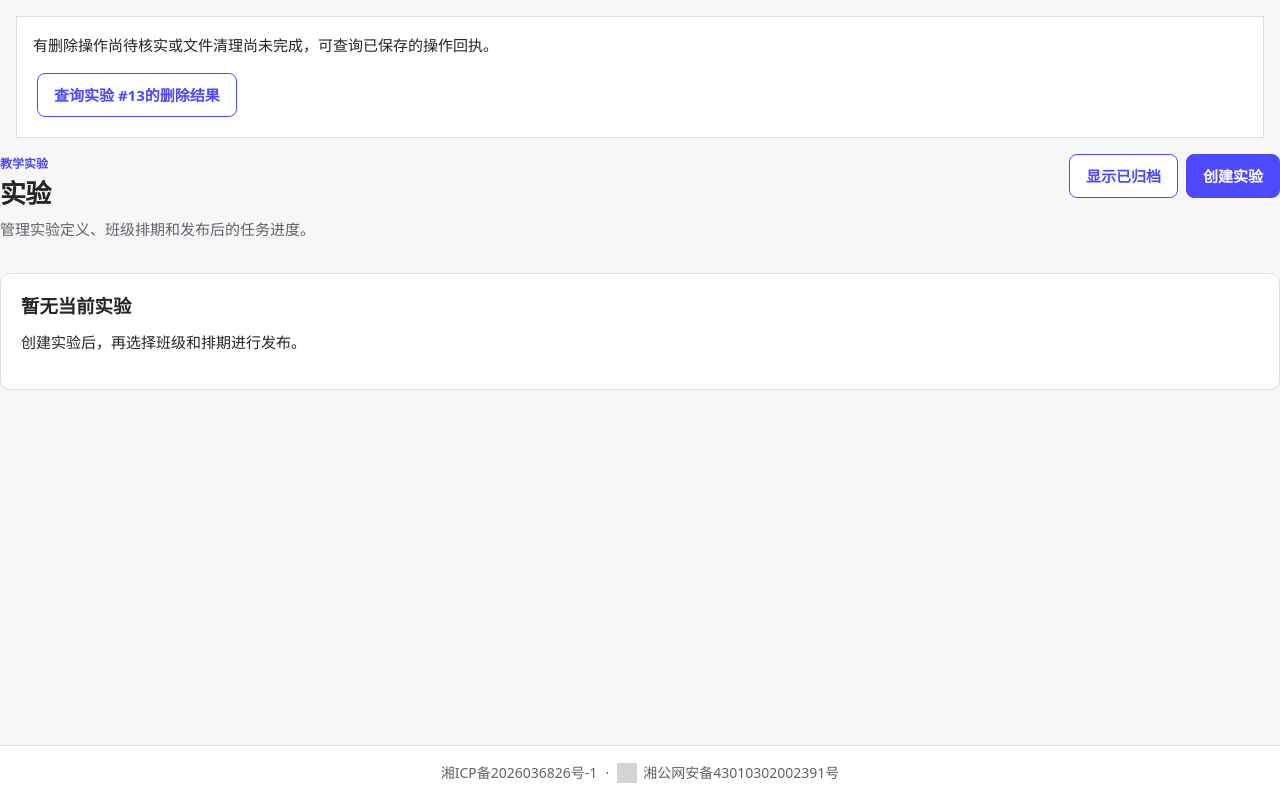
Test: persisted deletion recovery when explicitly mounted › recovers an admission-only saved operation by reads without automatically submitting deletion
What coordinates should you click on to do the following:
click the 1st button
I would click on:
 (137, 95)
Its box is [37,73,237,117].
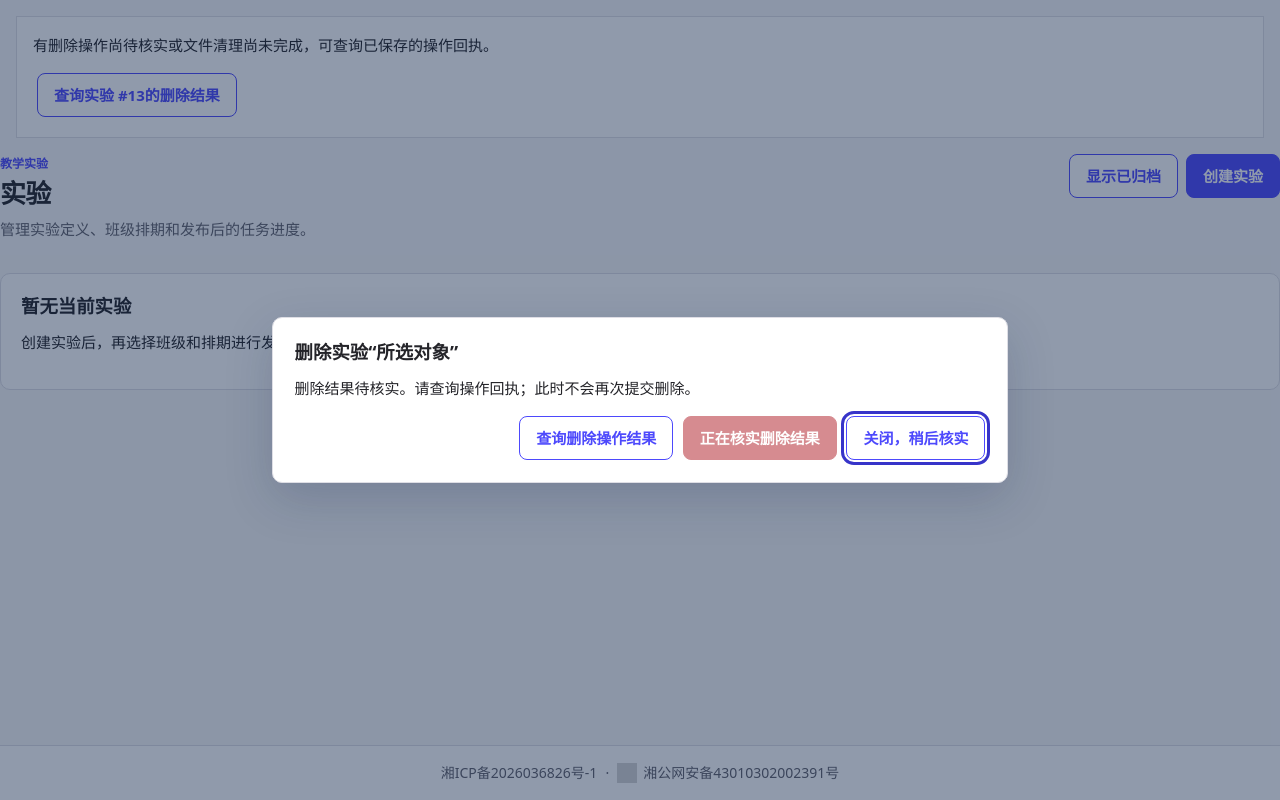
Result: the button "正在核实删除结果" is disabled at [683,416,837,460]
